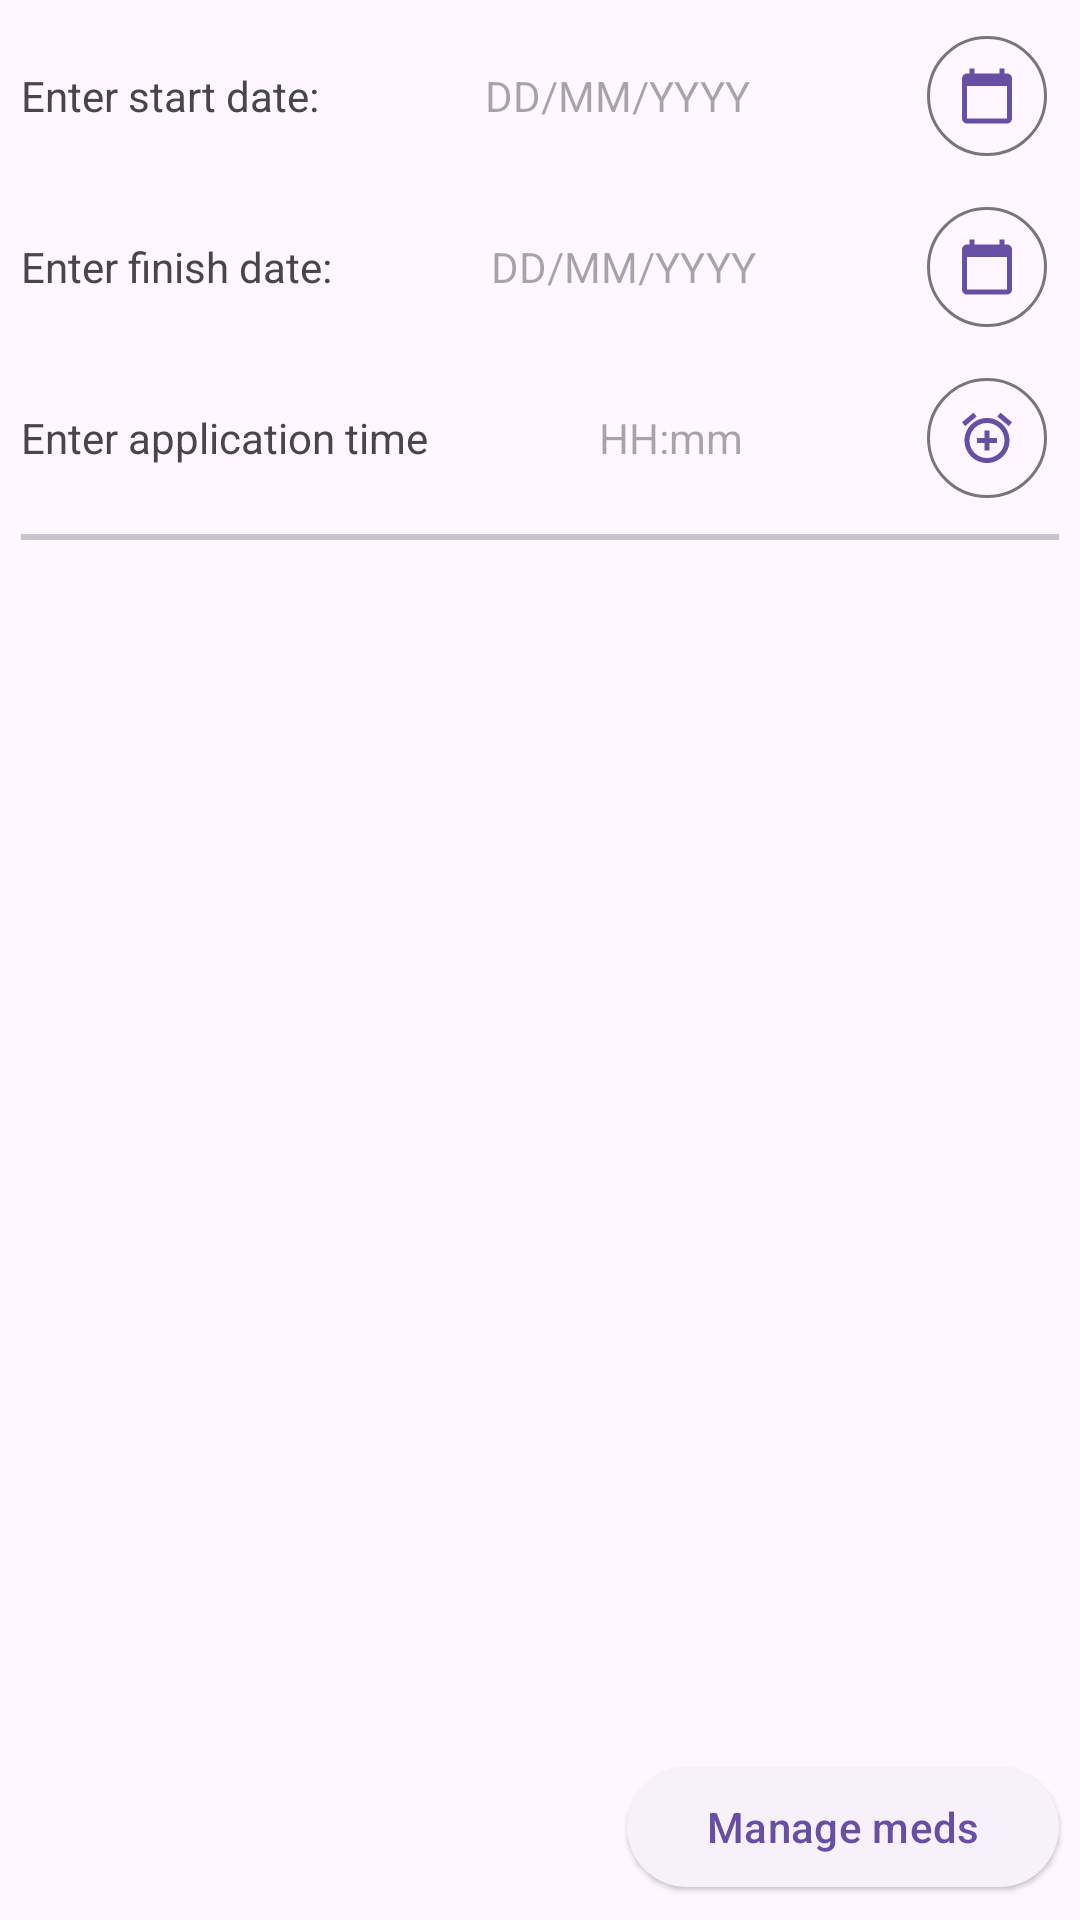

Named icons in this screenshot (1080 x 1920) and their centers, (x,y):
add alarm: (987,438)
calendar today: (987,96), (987,267)
